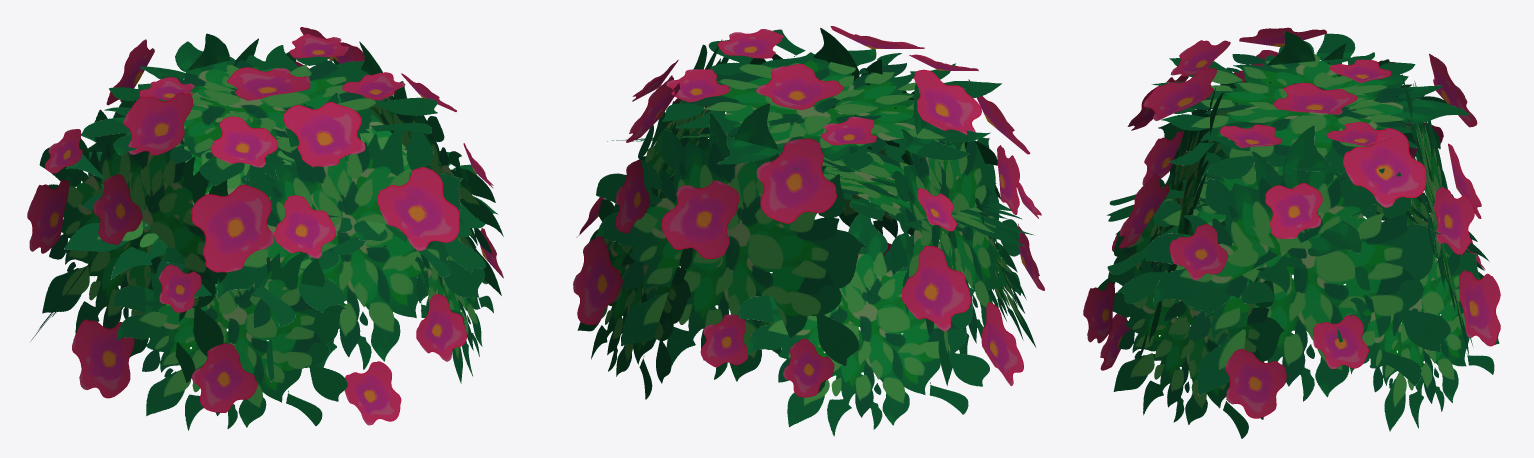
The model's file is SM_Pourpre_Bush.fbx.
3 renders of one model, left to right at view 1: azimuth 30°, elevation 25°; view 2: azimuth 150°, elevation 25°; view 3: azimuth 270°, elevation 25°, orthographic. The views are drawn at different scales.
Parts seen in each view (by area): view 1: PourpreBush; view 2: PourpreBush; view 3: PourpreBush.
Boxes of the visible parts, x1=… form: PourpreBush: x1=27, y1=27, x2=503, y2=430; PourpreBush: x1=573, y1=26, x2=1044, y2=436; PourpreBush: x1=1083, y1=27, x2=1500, y2=438.
Size of the model in its own units: 142 by 95.13 by 123.
Materials: 1 (1 with a texture image).
